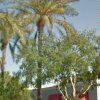Palm tree: (20, 0, 63, 78)
